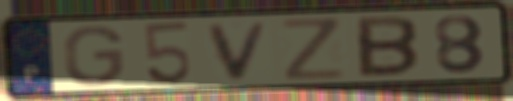5: (141, 19, 194, 87)
8: (433, 13, 488, 75)
B: (354, 14, 422, 80)
G: (62, 23, 127, 88)
V: (204, 19, 275, 82)
Z: (278, 15, 350, 83)
